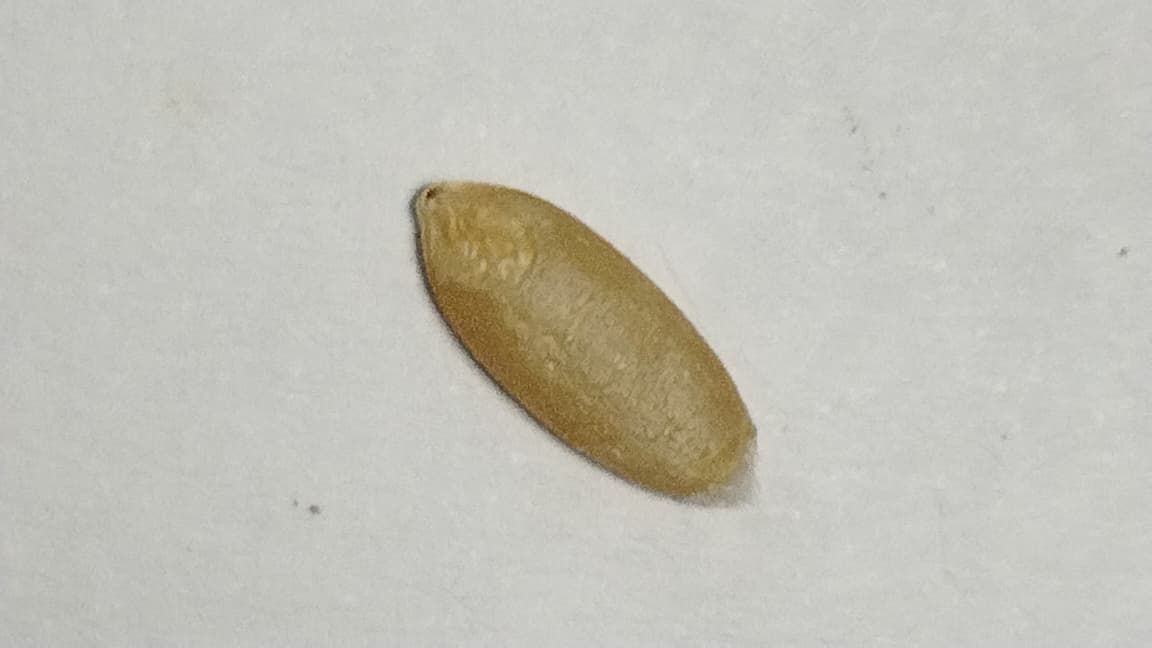healthy: (412, 181, 755, 505)
